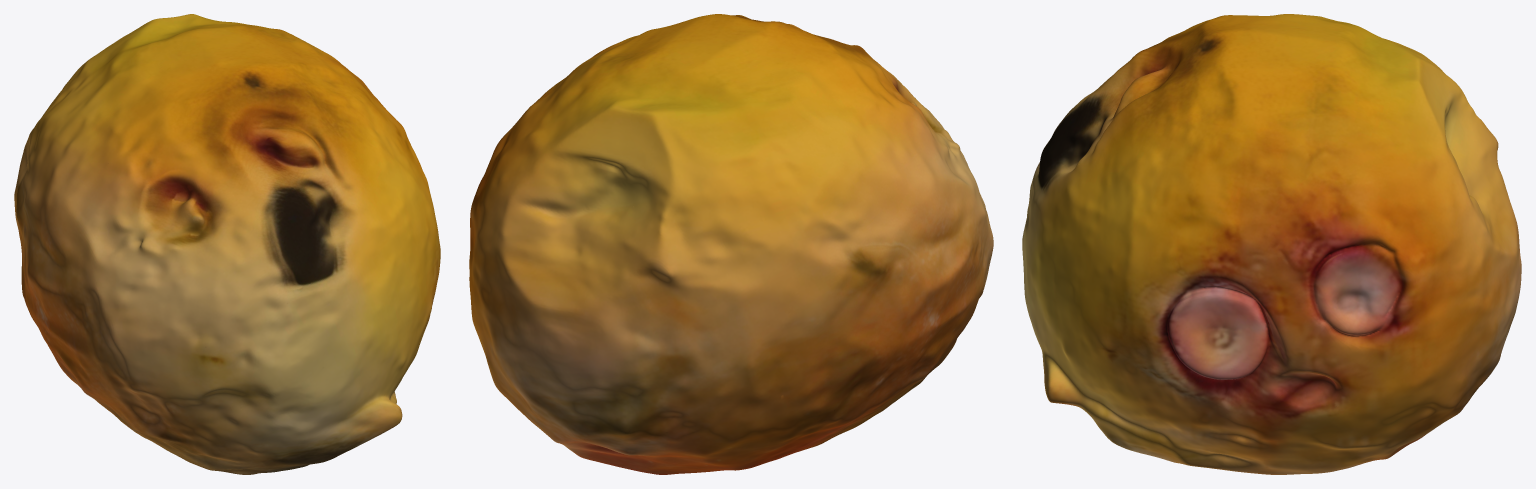
The model's file is takoyaki.glb.
3 renders of one model, left to right at view 1: azimuth 30°, elevation 25°; view 2: azimuth 150°, elevation 25°; view 3: azimuth 270°, elevation 25°, orthographic. The views are drawn at different scales.
Parts seen in each view (by area): view 1: Object_2, Object_5, Object_4, Object_3, Object_6; view 2: Object_5, Object_3, Object_4, Object_2, Object_6; view 3: Object_2, Object_3, Object_4, Object_5, Object_6.
Part boxes in pixels (left/top/right/bottom): Object_2: left=155, top=27, right=440, bottom=407; Object_5: left=14, top=25, right=334, bottom=474; Object_4: left=73, top=53, right=328, bottom=474; Object_3: left=47, top=14, right=439, bottom=474; Object_6: left=21, top=26, right=437, bottom=474; Object_5: left=612, top=41, right=993, bottom=471; Object_3: left=469, top=36, right=967, bottom=462; Object_4: left=470, top=22, right=967, bottom=474; Object_2: left=469, top=14, right=953, bottom=285; Object_6: left=474, top=19, right=991, bottom=473; Object_2: left=1022, top=17, right=1474, bottom=409; Object_3: left=1024, top=19, right=1521, bottom=466; Object_4: left=1029, top=14, right=1521, bottom=474; Object_5: left=1022, top=14, right=1501, bottom=289; Object_6: left=1023, top=18, right=1519, bottom=471.
Size of the model in its own units: 0.8601 by 0.8307 by 0.9441.
Materials: 1 (1 with a texture image).
